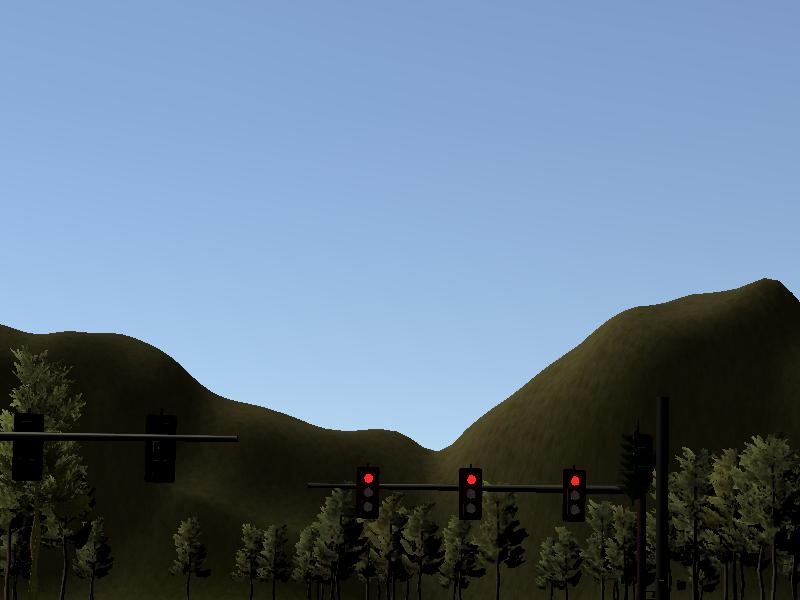traffic_light_red: (342, 466, 621, 522)
